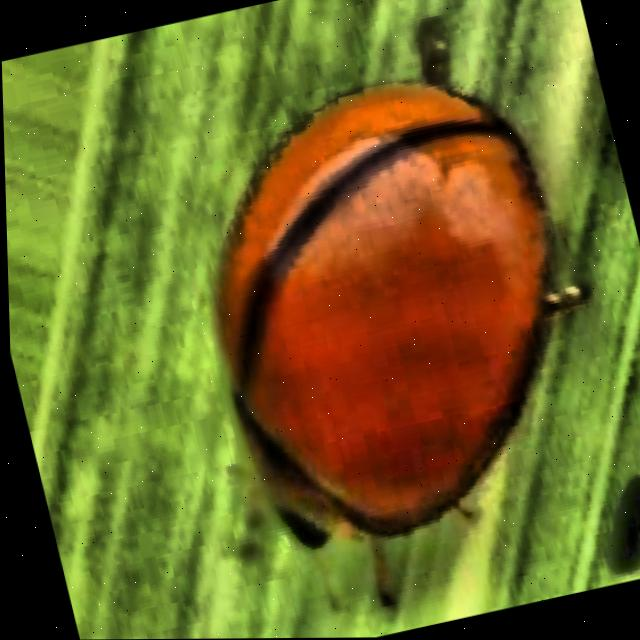Ladybug: (70, 0, 640, 640)
